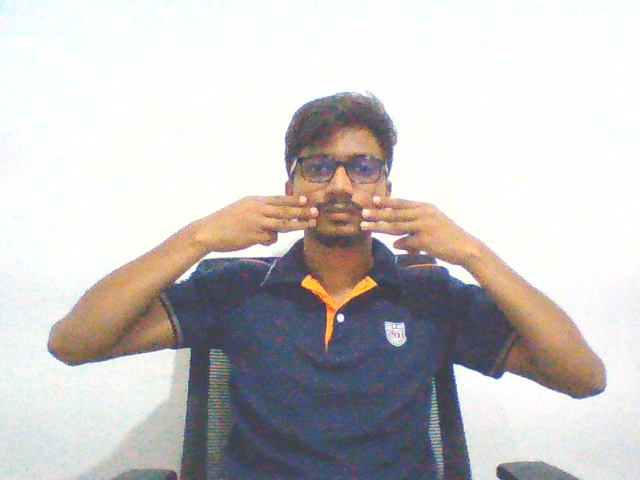cat: (190, 186, 480, 272)
